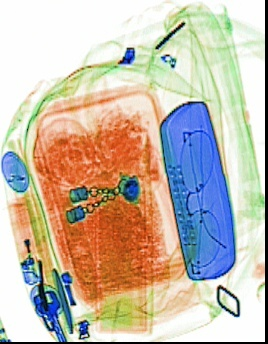lighter: (8, 197, 42, 283)
